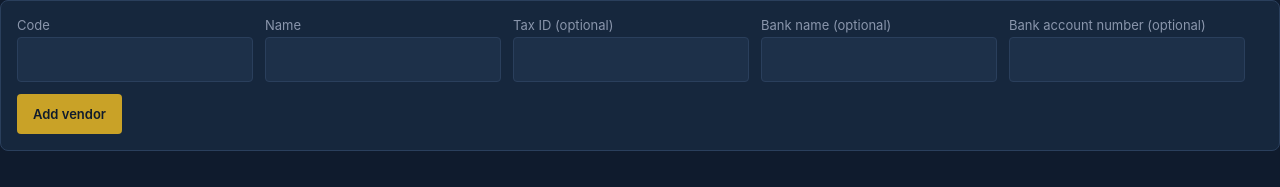
Test: CreateVendorForm › blocks submission and shows per-field errors when required fields are left blank
The image size is (1280, 187).
What coordinates should you click on to do the following:
click the button "Add vendor"
I would click on:
 (70, 114)
Its box is [17,94,122,134].
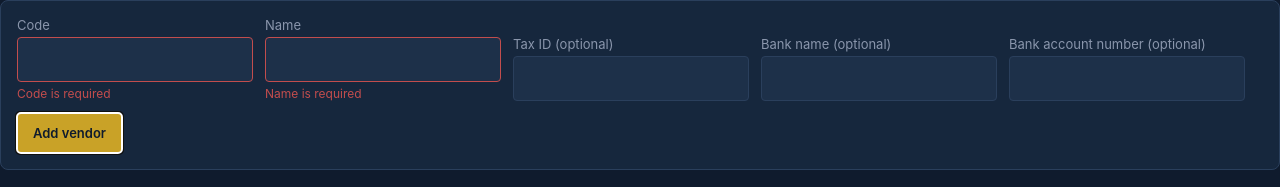
expect the text "Code is required" is shown: met, box [17,86,111,101]
expect the text "Name is required" is shown: met, box [265,86,362,101]
